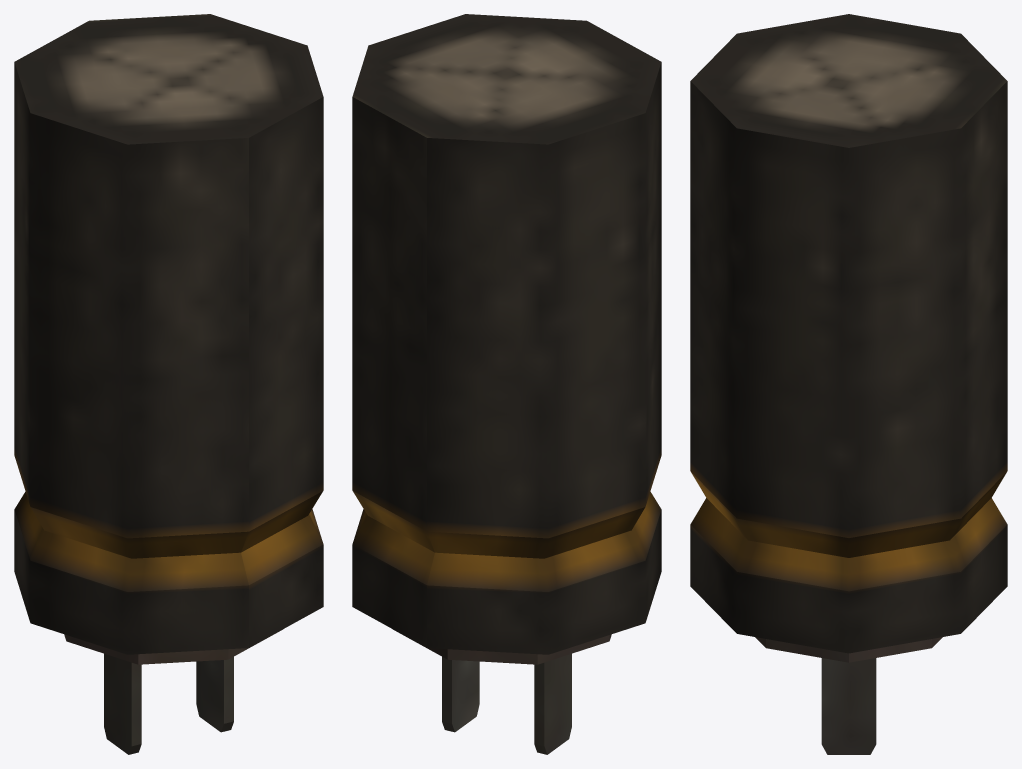
File: capacitor_etx_3.obj
3 renders of one model, left to right at view 1: azimuth 30°, elevation 25°; view 2: azimuth 150°, elevation 25°; view 3: azimuth 270°, elevation 25°, orthographic.
Visible parts, largest first — view 1: capacitor_etx_3; view 2: capacitor_etx_3; view 3: capacitor_etx_3.
Part boxes in pixels (x1,y1,x2,y2): capacitor_etx_3: [14, 14, 323, 754]; capacitor_etx_3: [352, 14, 661, 754]; capacitor_etx_3: [690, 14, 1007, 754].
Size of the model in its own units: 0.0648 by 0.1464 by 0.0648.
